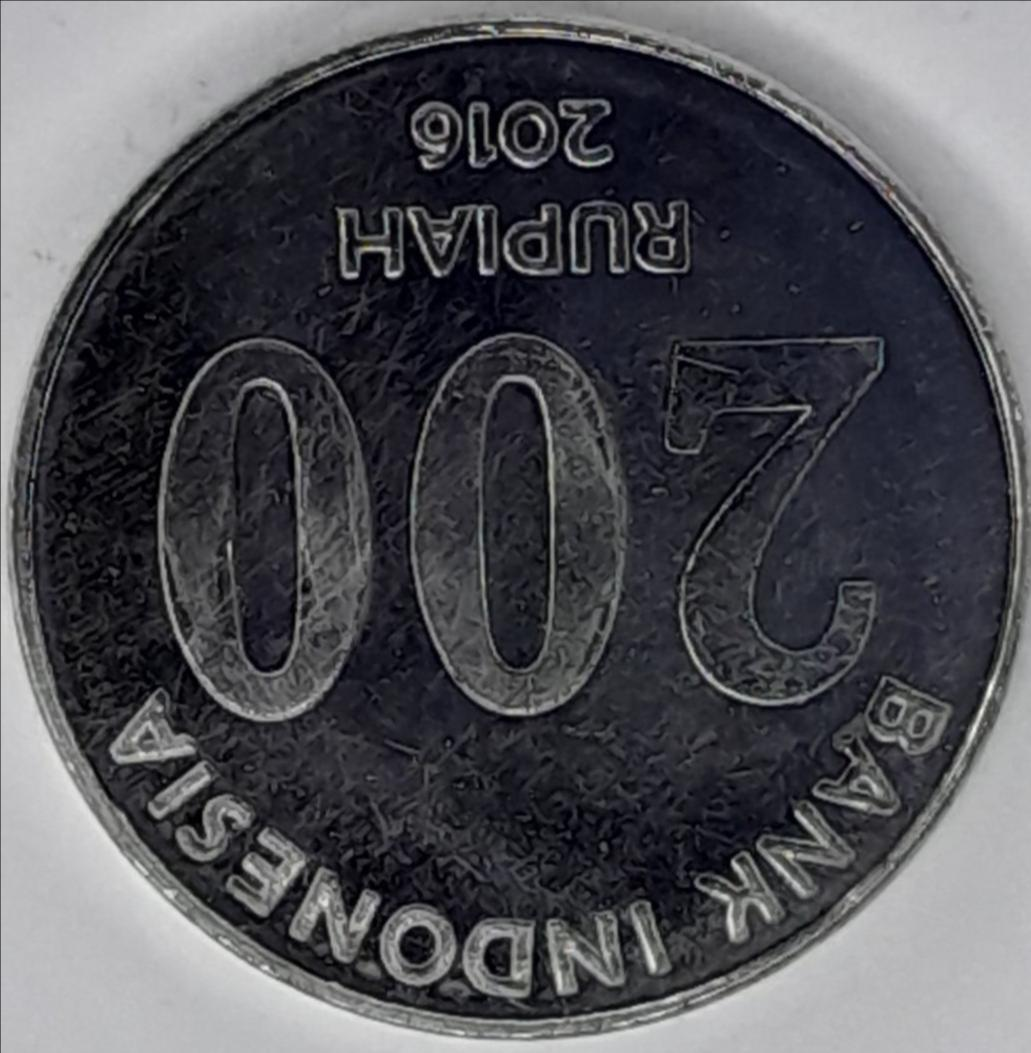coin_200_e2016: (0, 18, 1031, 1053)
